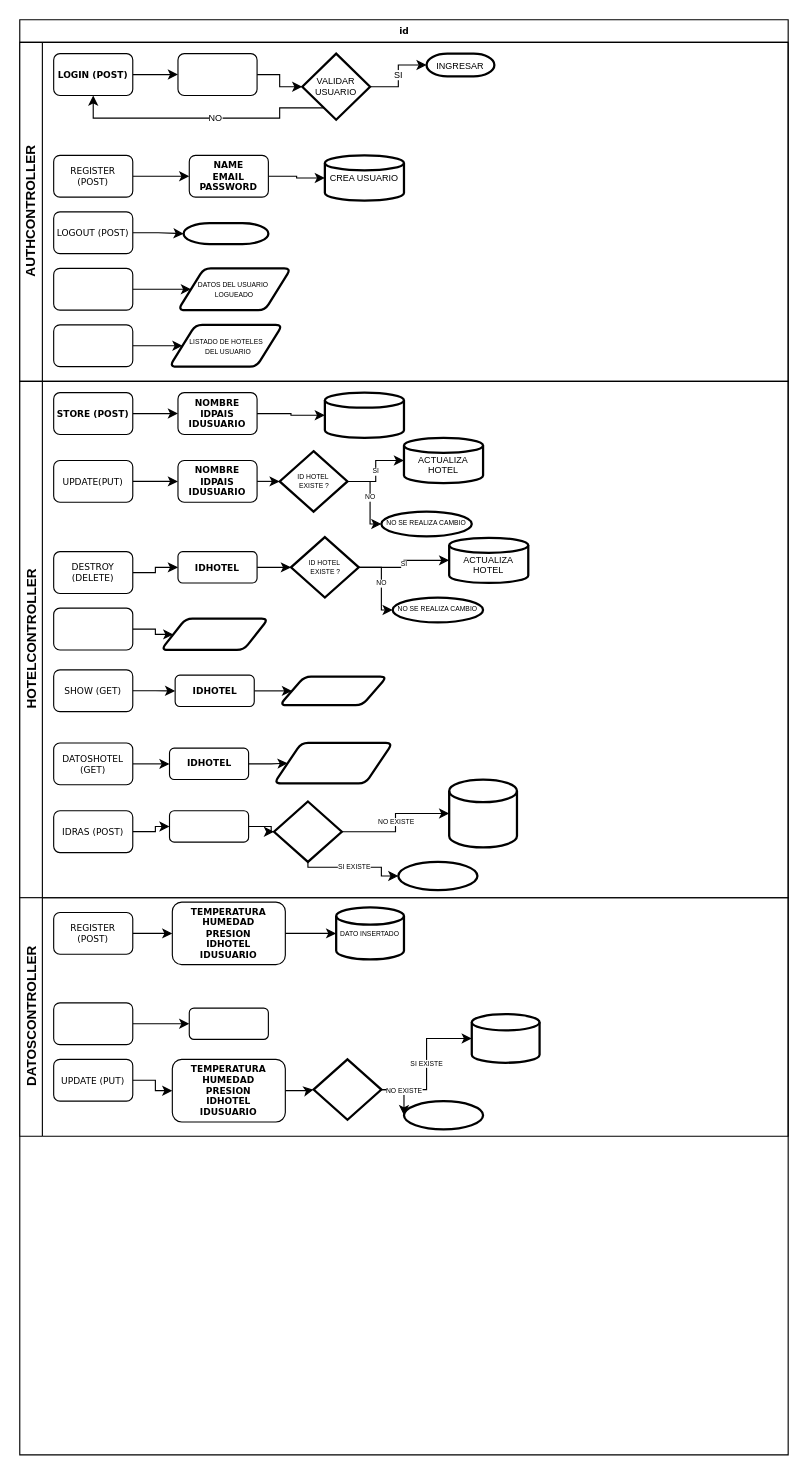
This 808x1475 diagram has some shape labels left out. The shapes that lost their labels are listed below. From the top down, each one's centre as x and y in pixels, then its label:
At (217,74): "EMAIL PASSWORD".
At (225,233): "CERRAR SESION".
At (93,288): "USER(GET)".
At (93,345): "USER-HOTEL (GET)".
At (364,414): "CREA HOTEL".
At (93,628): "INDEX (GET)".
At (214,634): "LISTADO DE HOTELES".
At (333,690): "PERFIL DEL HOTEL".
At (332,762): "LISTA DATOS REGISTRADOS DEL HOTEL".
At (208,826): "MAC ENVIADA POR RASPBERRY".
At (307,831): "VALIDAR MAC".
At (482,813): "PREREGISTRO HOTEL".
At (437,875): "NO SE AGREGA".
At (93,1023): "INDEX(GET)".
At (228,1023): "LISTADO DE DATOS".
At (505,1037): "ACTUALZIA DATO".
At (347,1089): "VALIDAR ID DATOS".
At (443,1114): "NO SE MODIFICA".
